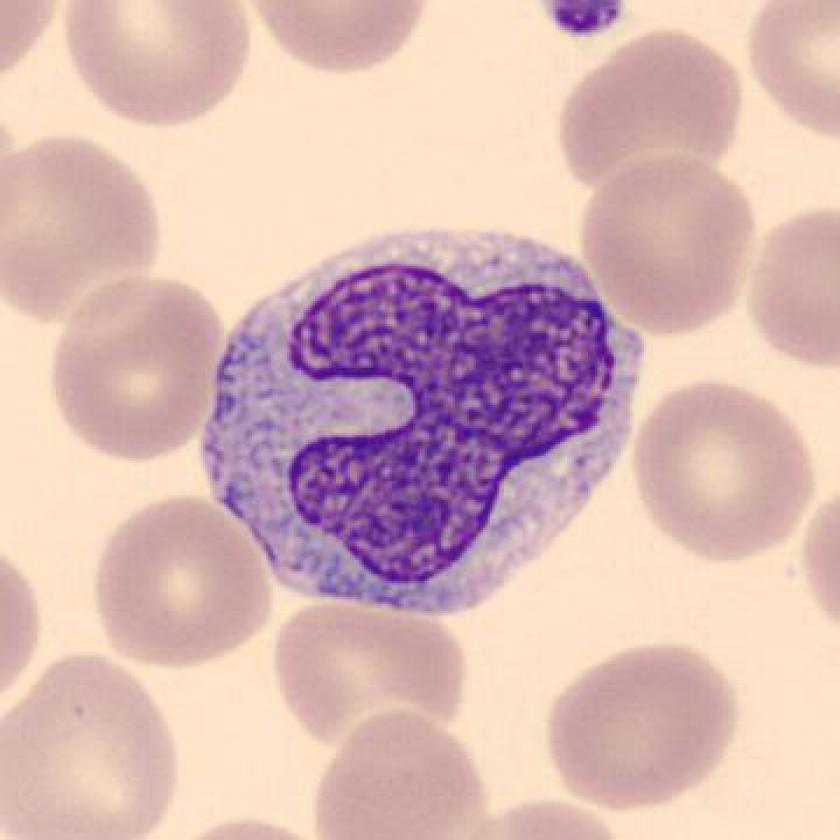monocyte: (183, 200, 682, 633)
